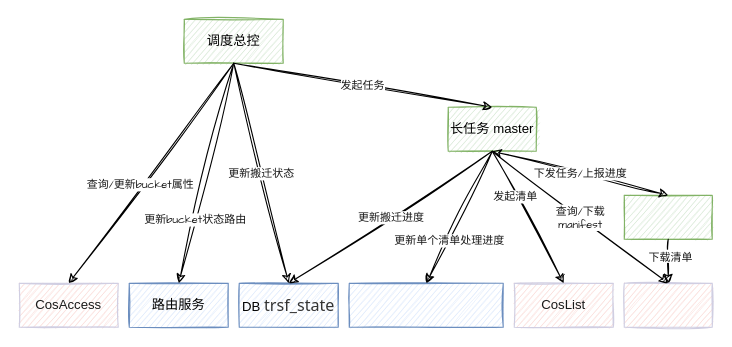
Image size: 732x347. Some labels were removed from this diagram. The shapes that lost their labels are listed below. From the top down, each one's centre as x and y in pixels, then its label:
At (x=667, y=216): "长任务 worker".
At (x=425, y=304): "DB inventory _state".
At (x=667, y=304): "HttpApi".
